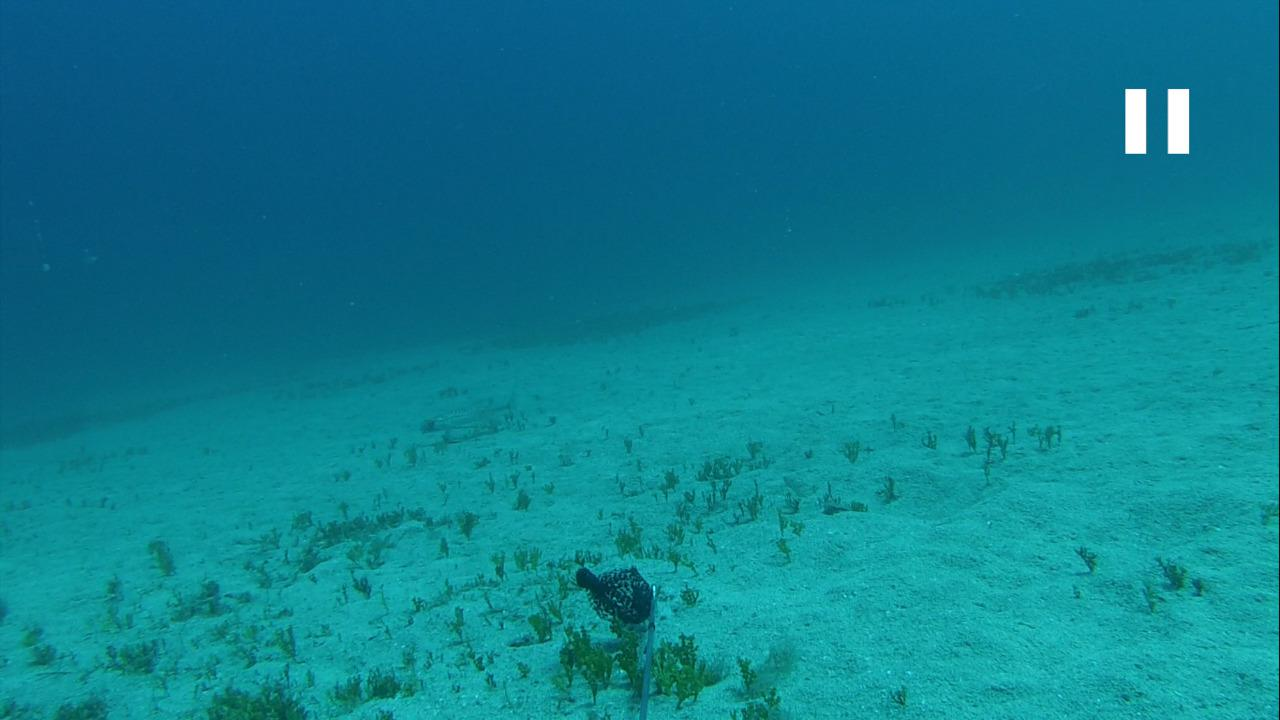dactylopterus: (409, 389, 525, 441)
